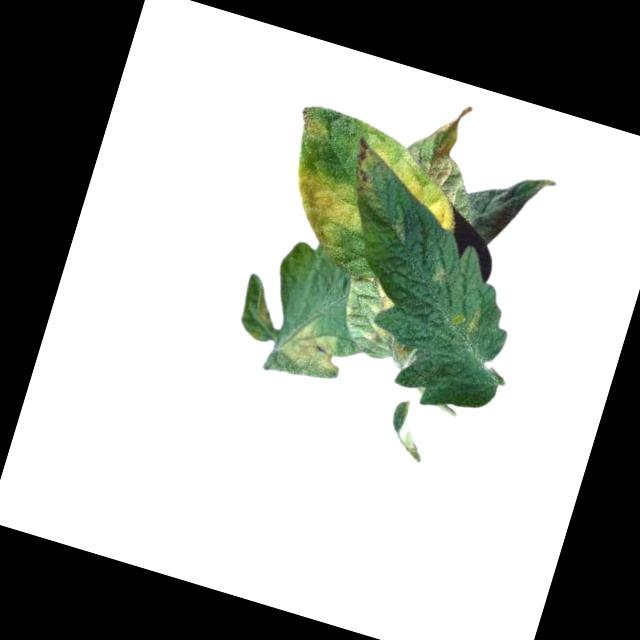Leaf_Mold: (362, 137, 475, 231), (278, 164, 370, 254), (335, 269, 405, 347), (278, 312, 351, 380), (290, 103, 335, 142), (347, 136, 380, 188)
